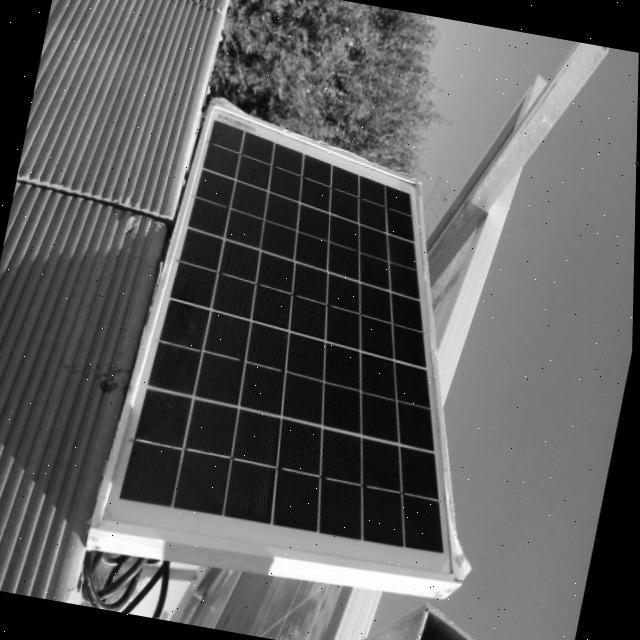Normal Solar Panel: (95, 95, 542, 588)
